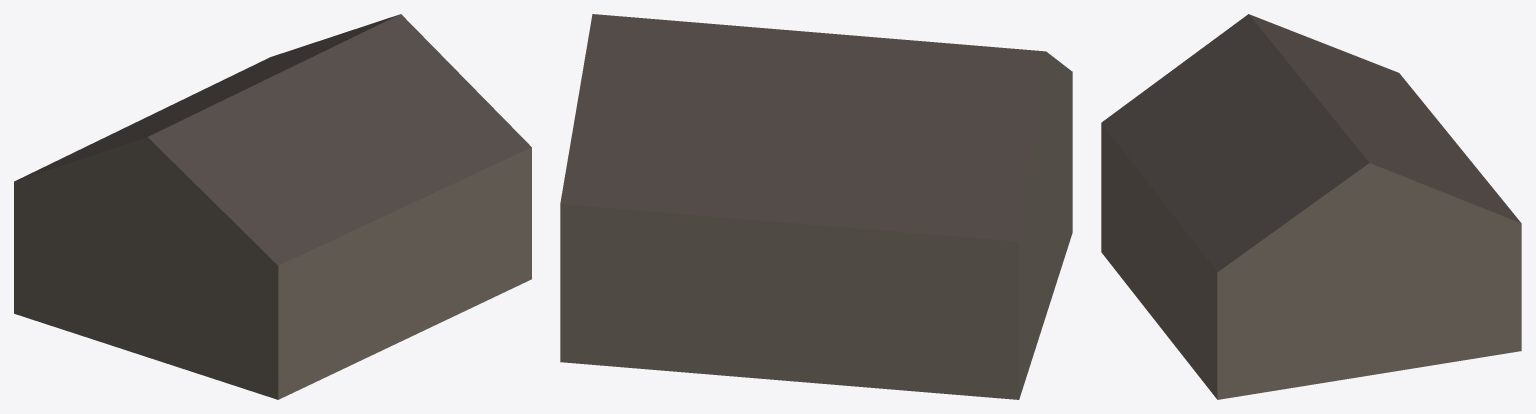
3 views of the same model, side by side, from view 1: azimuth 30°, elevation 25°; view 2: azimuth 150°, elevation 25°; view 3: azimuth 270°, elevation 25° (orthographic). The views are drawn at different scales.
Parts seen in each view (by area): view 1: HP-w1198842223; view 2: HP-w1198842223; view 3: HP-w1198842223.
Boxes of the visible parts, left/top/right/bottom form: HP-w1198842223: left=14, top=14, right=531, bottom=399; HP-w1198842223: left=560, top=14, right=1072, bottom=399; HP-w1198842223: left=1101, top=14, right=1521, bottom=399.
Size of the model in its own units: 20.12 by 10 by 17.93.
